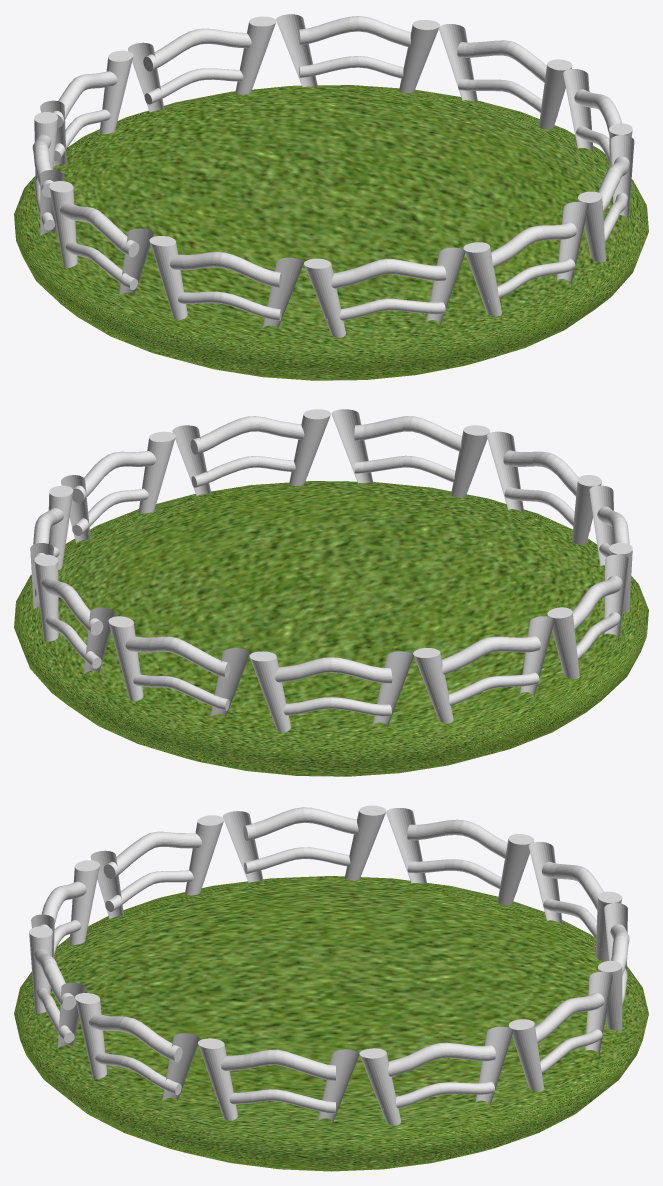
Rendered from kusa.glb.
3 renders of one model, top to bottom at view 1: azimuth 30°, elevation 25°; view 2: azimuth 150°, elevation 25°; view 3: azimuth 270°, elevation 25°, orthographic.
Visible parts, largest first — view 1: 球.001, 円柱.003; view 2: 球.001, 円柱.003; view 3: 球.001, 円柱.003.
Boxes of the visible parts, x1,y1,x2,y2 form: 球.001: (14,85,648,380); 円柱.003: (32,14,634,337); 球.001: (14,481,648,776); 円柱.003: (30,409,632,732); 球.001: (14,876,648,1171); 円柱.003: (29,805,629,1125).
Bounding box in the file's own units: 6.8 × 1.98 × 6.8.
1 material, 1 textured.
